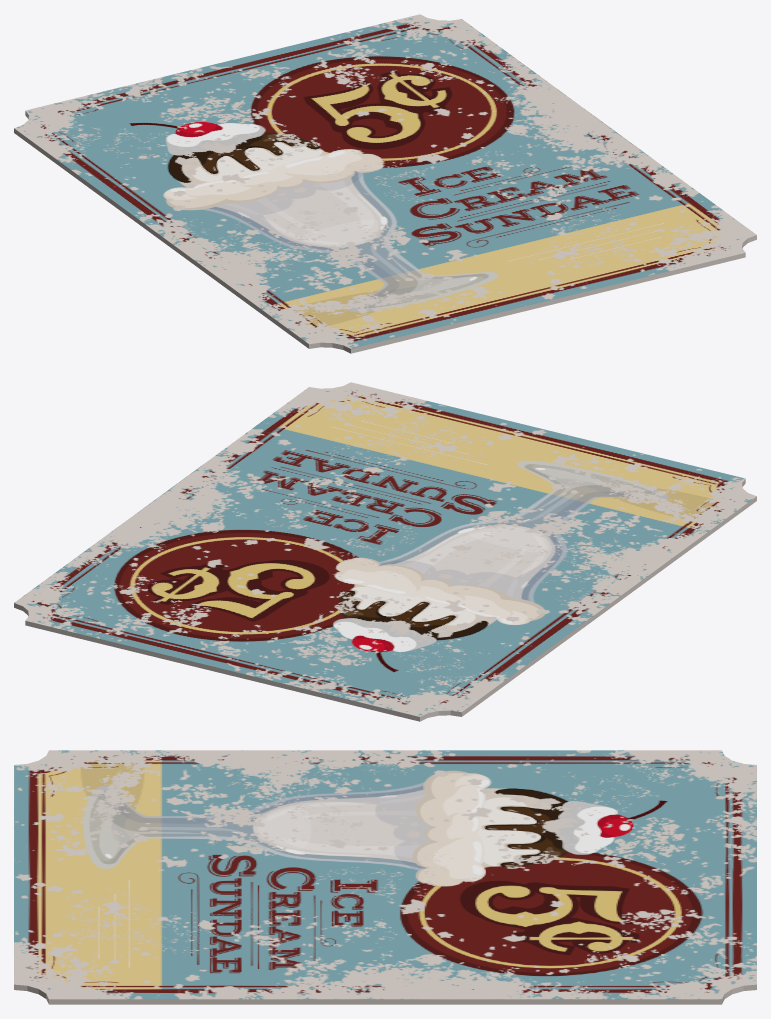
Rendered from IceCreamSign00.fbx.
3 renders of one model, top to bottom at view 1: azimuth 30°, elevation 25°; view 2: azimuth 150°, elevation 25°; view 3: azimuth 270°, elevation 25°, orthographic. The views are drawn at different scales.
Visible parts, largest first — view 1: IceCreamSign; view 2: IceCreamSign; view 3: IceCreamSign.
Boxes of the visible parts, x1,y1,x2,y2 form: IceCreamSign: (14,14,756,353); IceCreamSign: (14,382,756,721); IceCreamSign: (14,750,756,1004).
Size of the model in its own units: 0.7964 by 0.00802 by 1.
